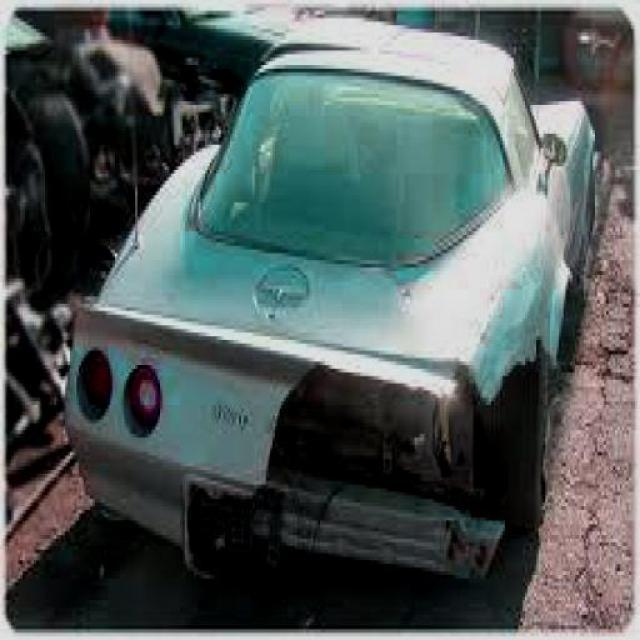Car-Damage: (201, 334, 562, 583)
